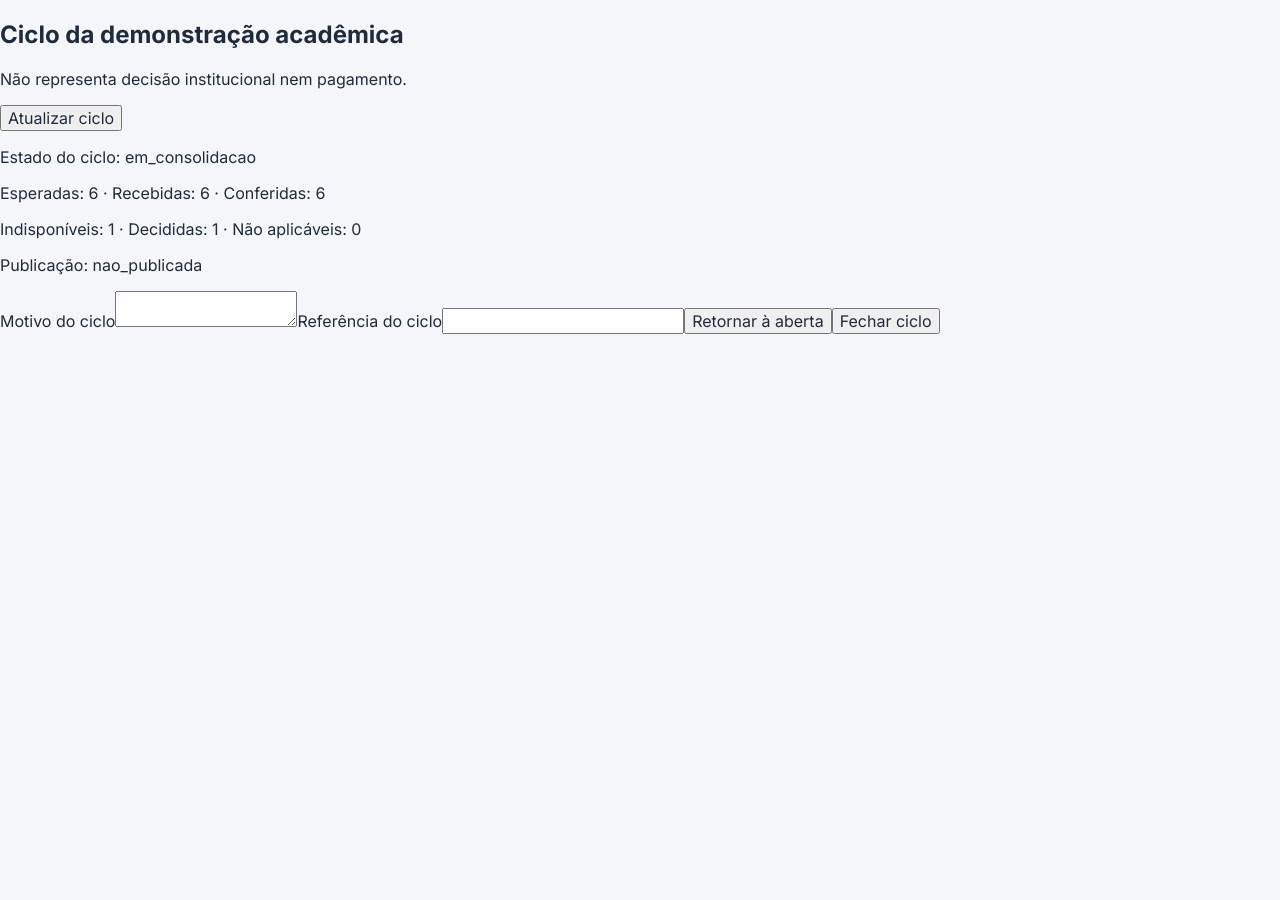
Test: still rejects close with an empty suffix or wrong prefix: DEMO-DECISAO-
In the field labelled "Referência do ciclo": (563, 321) [442,308,684,334], type "DEMO-DECISAO-"
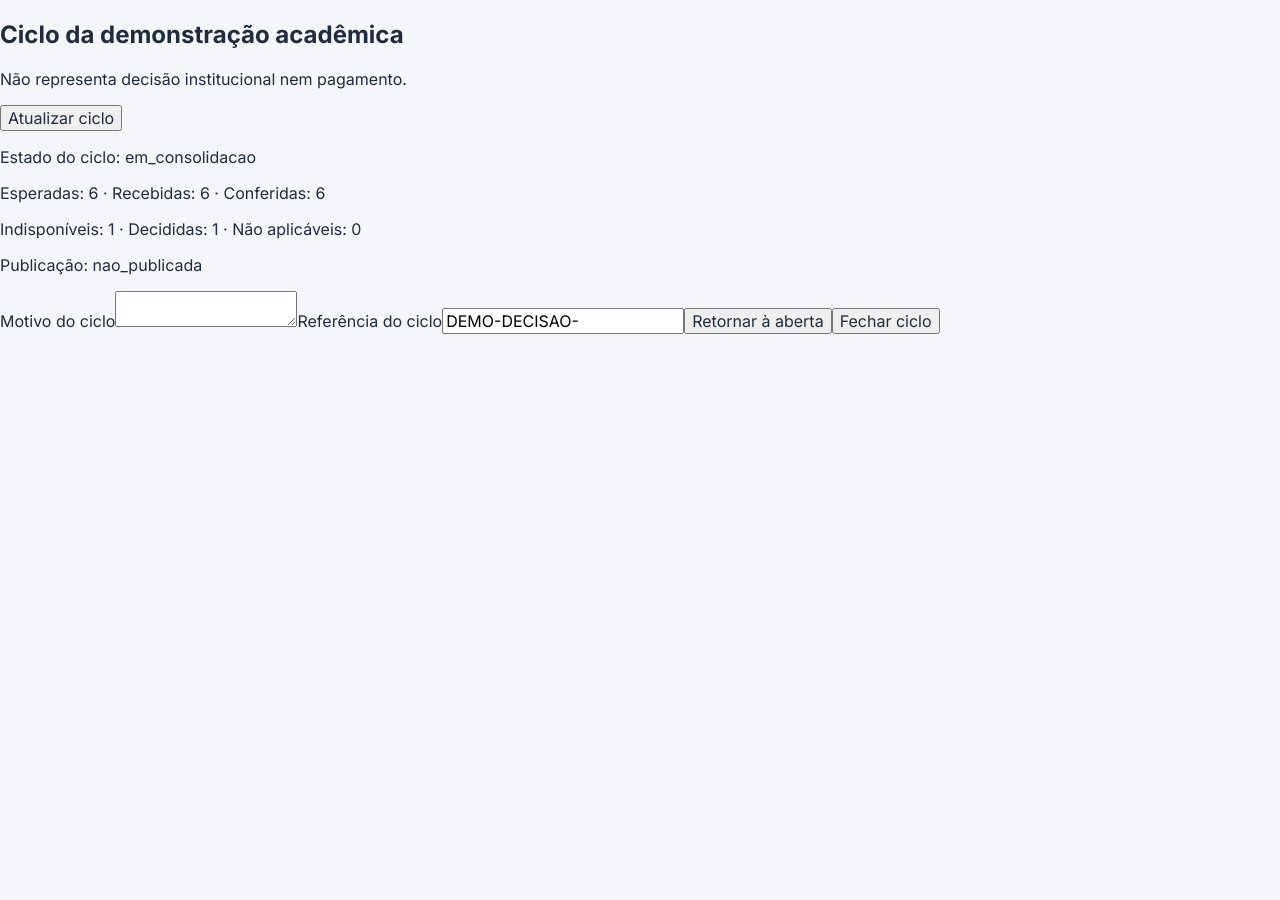
Click the button "Fechar ciclo": (886, 321) [832,308,940,334]
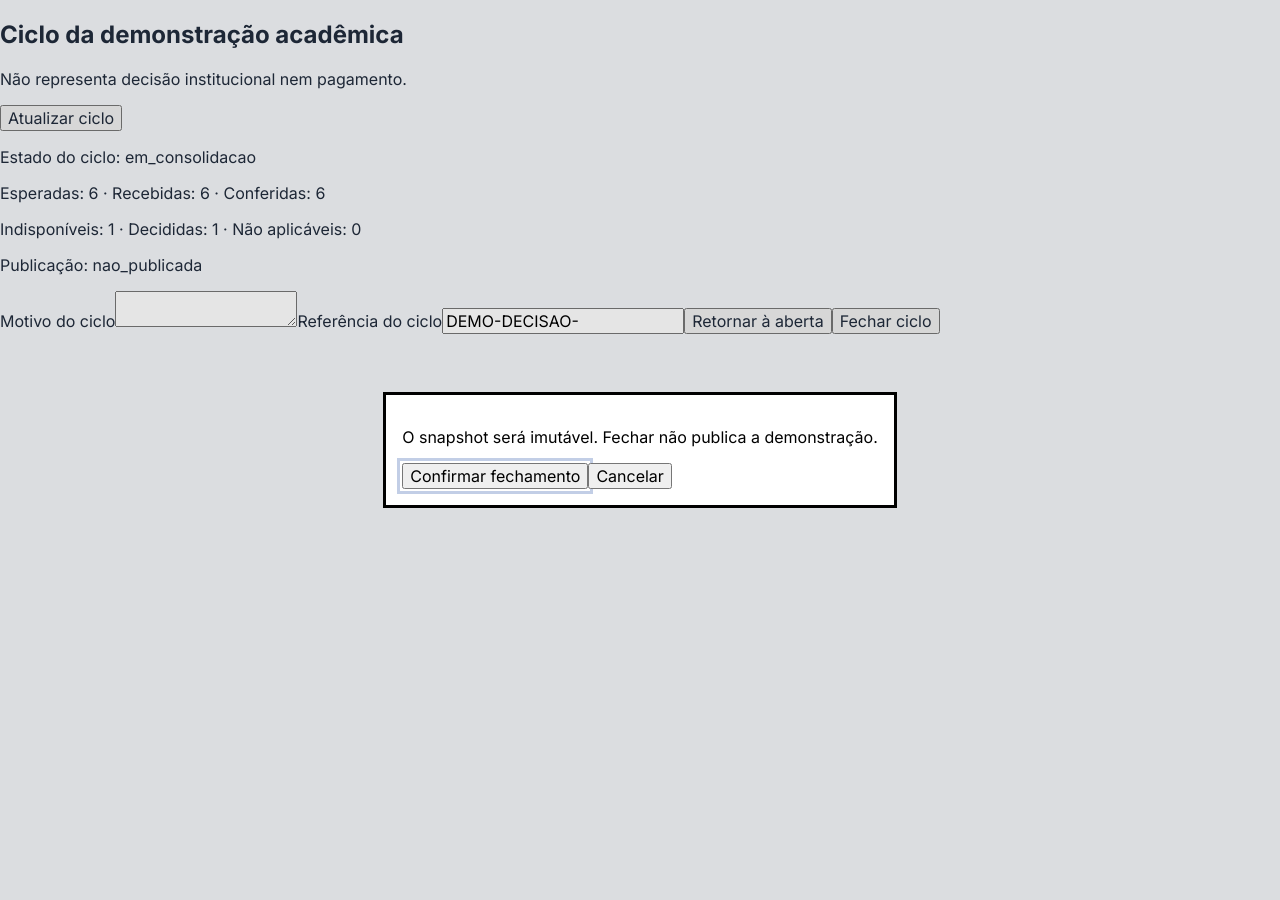
Click the button "Confirmar fechamento": (495, 476) [402,463,588,489]
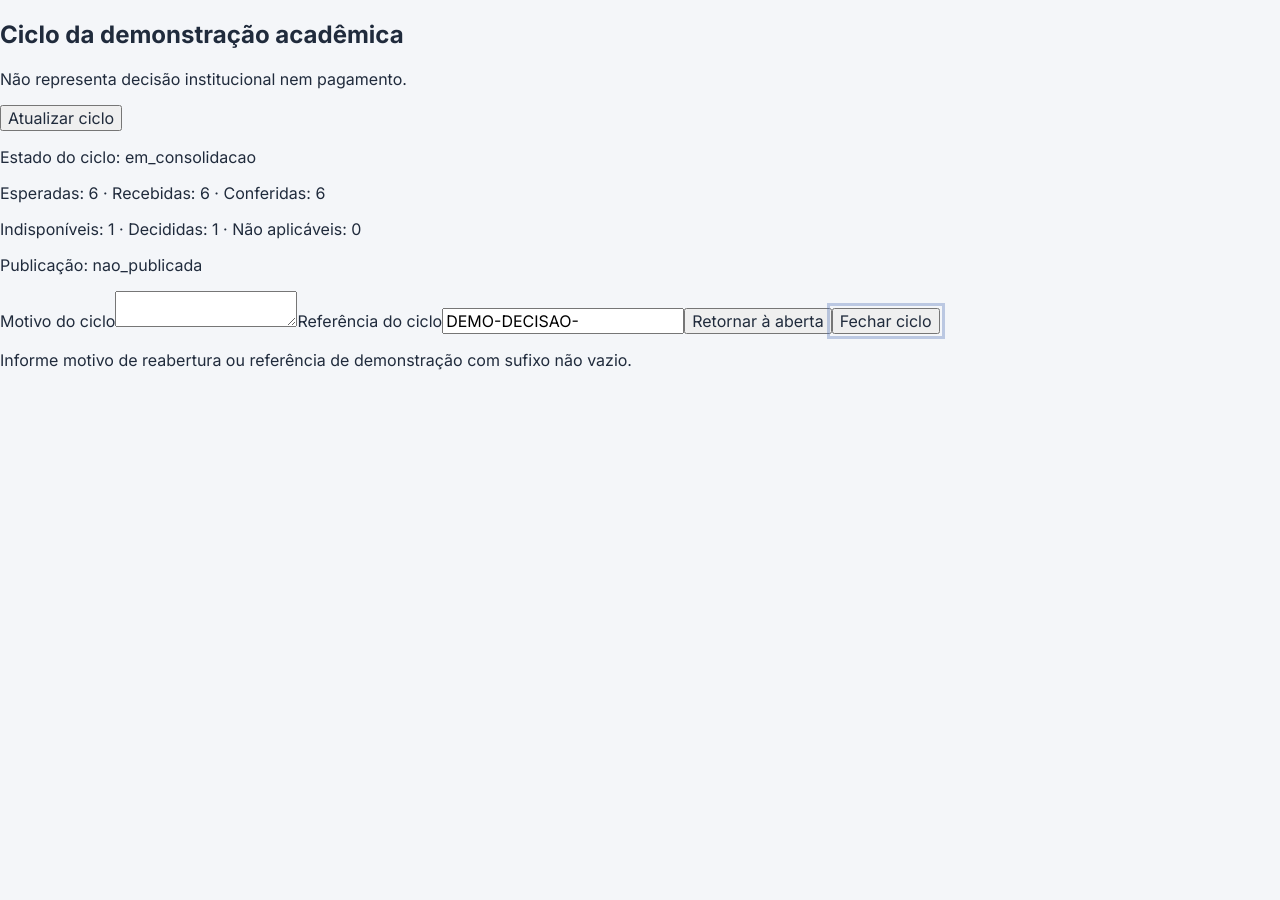
expect the message shows "sufixo não vazio": met, box [0,350,632,370]
